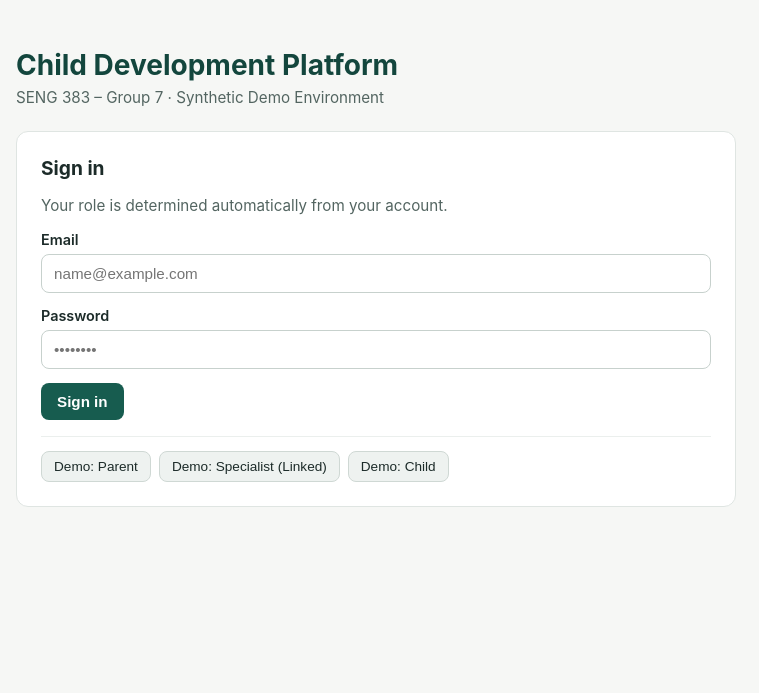
Scenario: M2 & M3 UI flows (Specialist Linking & Weekly Schedule) › allows parent and child to view Weekly Schedule tab and parent to add an event
Click the button "Demo: Parent". click: (96, 466)
box: 41,451 -> 151,482
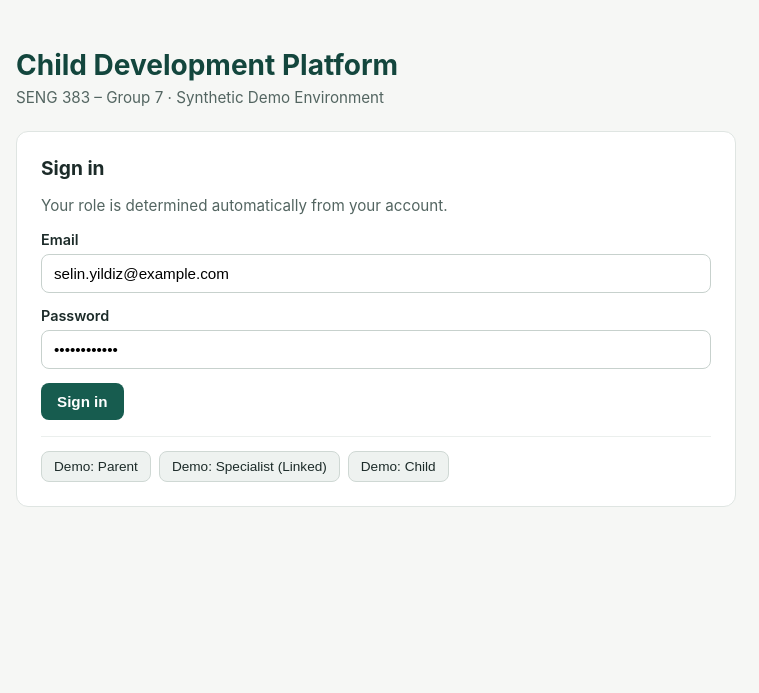
Click the button "Sign in". click: (82, 401)
box: 41,383 -> 124,420
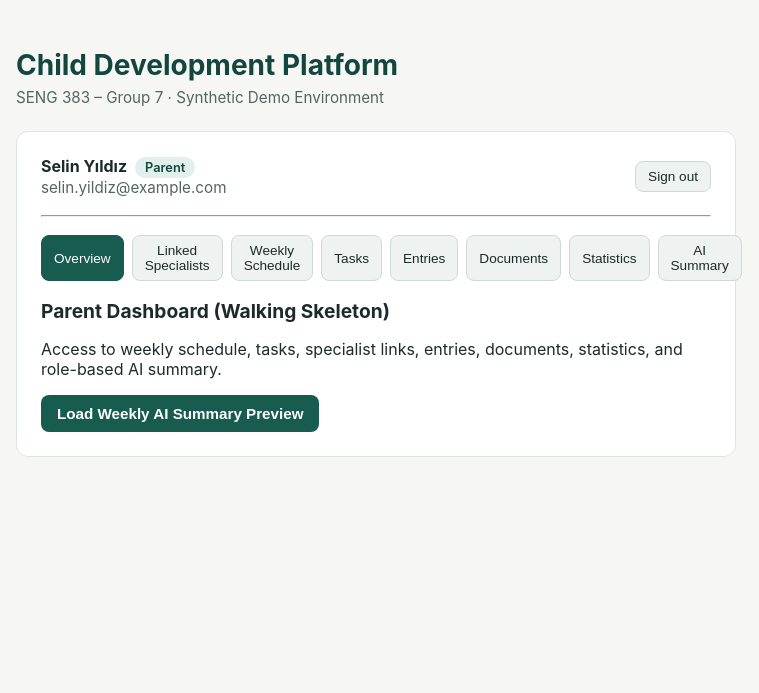
Click the button "Weekly Schedule". click: (272, 258)
box: 231,235 -> 313,281
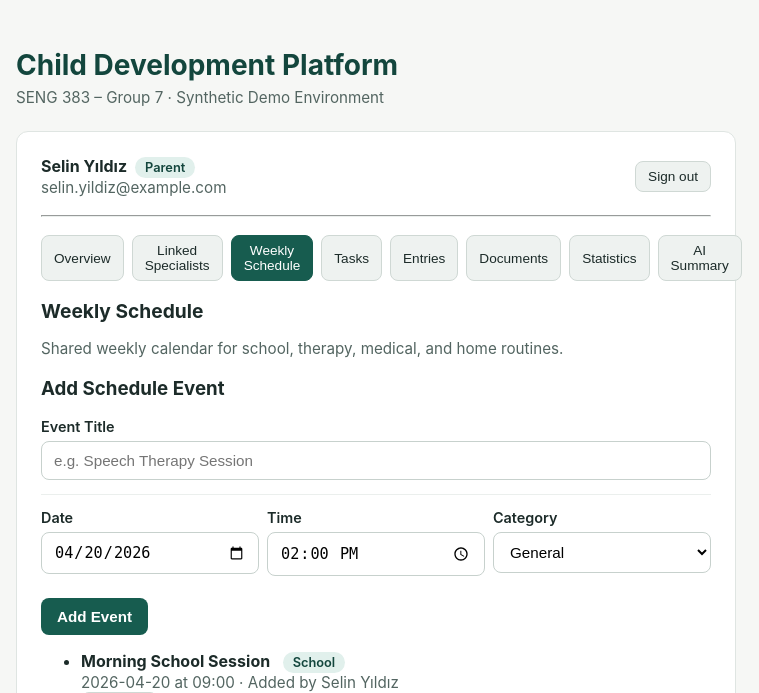
expect the text "Morning School Session" is shown: met, box 81,651 -> 270,671
Type "Speech Therapy Session" into the field labelled "Event Title". click: (376, 461)
box: 41,441 -> 711,480
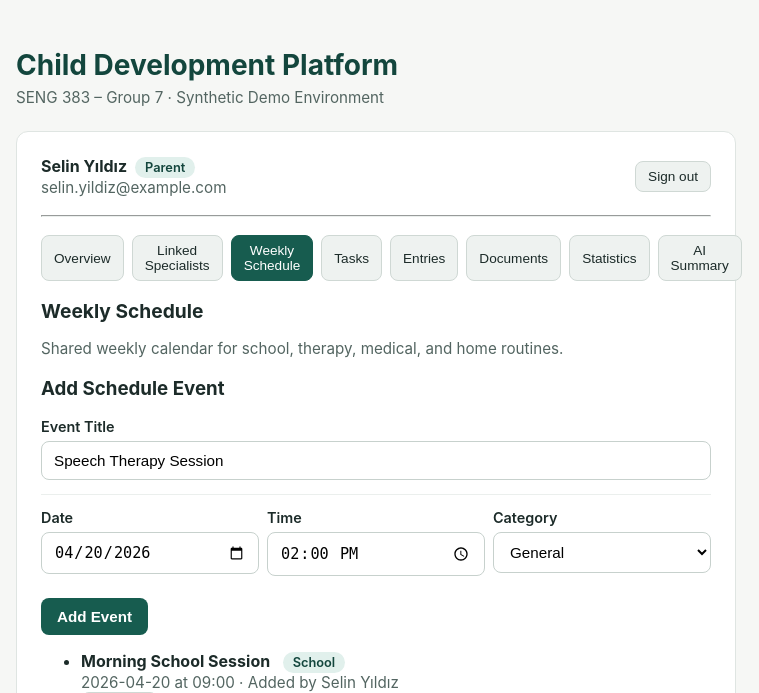
Click the button "Add Event". click: (95, 617)
box: 41,598 -> 148,635
(page scrolled)
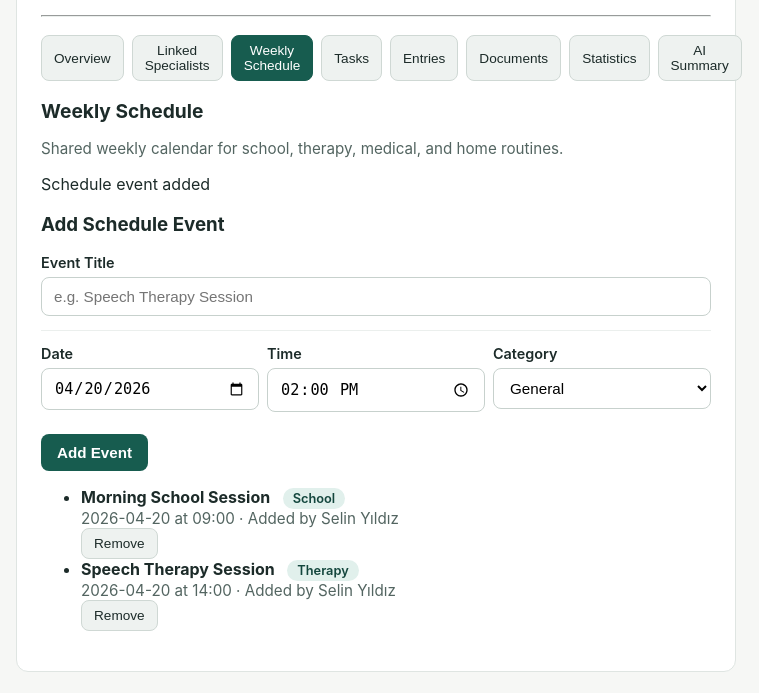
expect the text "Speech Therapy Session" is shown: met, box 81,559 -> 275,579
